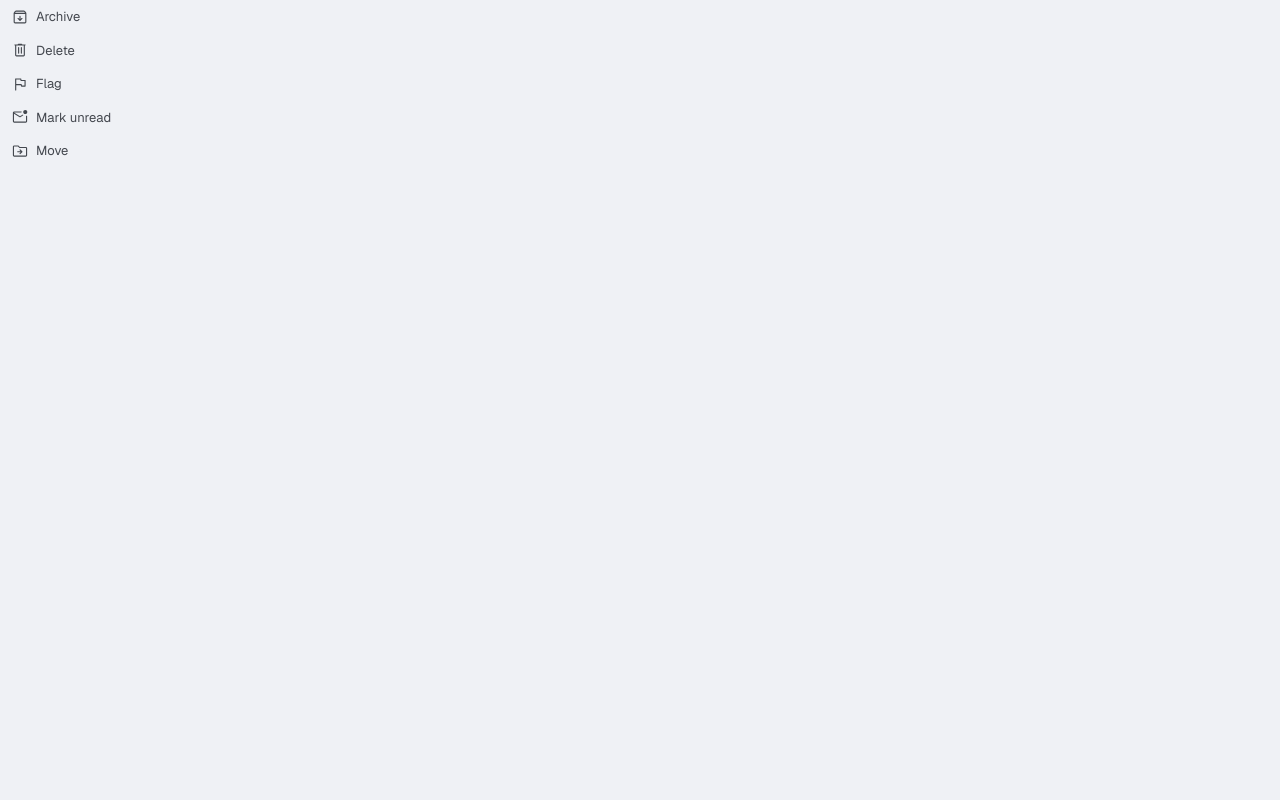
Test: MailboxActControls › counts the messages in the question about deleting, and says both what it does and how long it can be undone
Step 1. Click the button "Delete" → {"x": 43, "y": 50}, box x1=0 y1=34 x2=86 y2=67
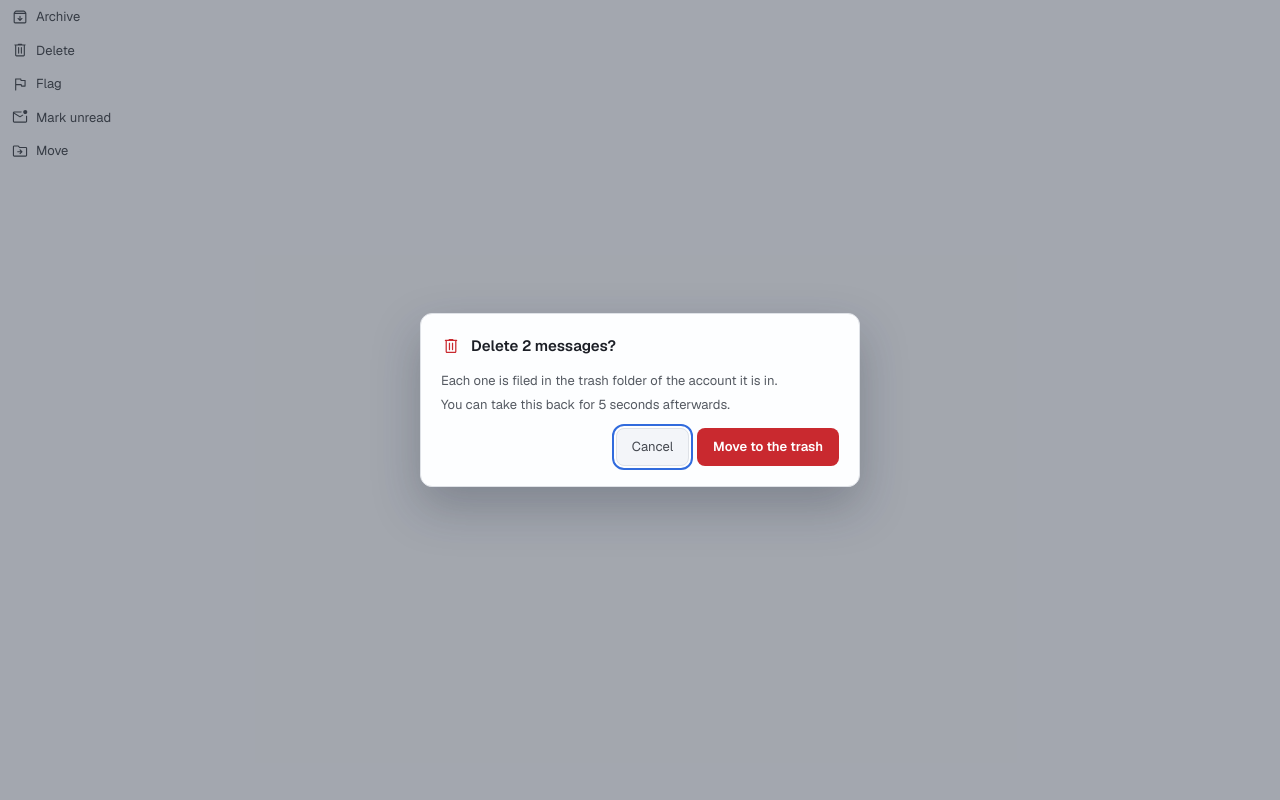
Expected: the heading "Delete 2 messages?" is shown, x1=441 y1=336 x2=616 y2=356
Expected: the text "Each one is filed in the trash folder of the account it is in." is shown, x1=441 y1=372 x2=777 y2=389
Expected: the text "You can take this back for 5 seconds afterwards." is shown, x1=441 y1=396 x2=730 y2=413
